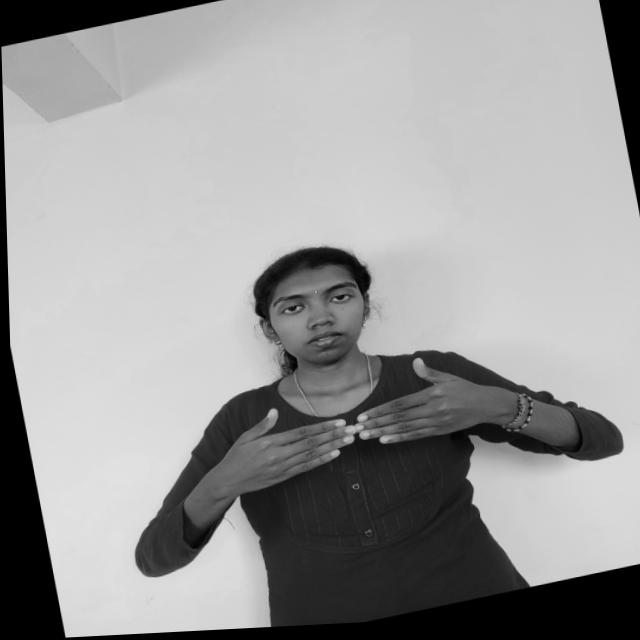Night: (179, 339, 511, 515)
